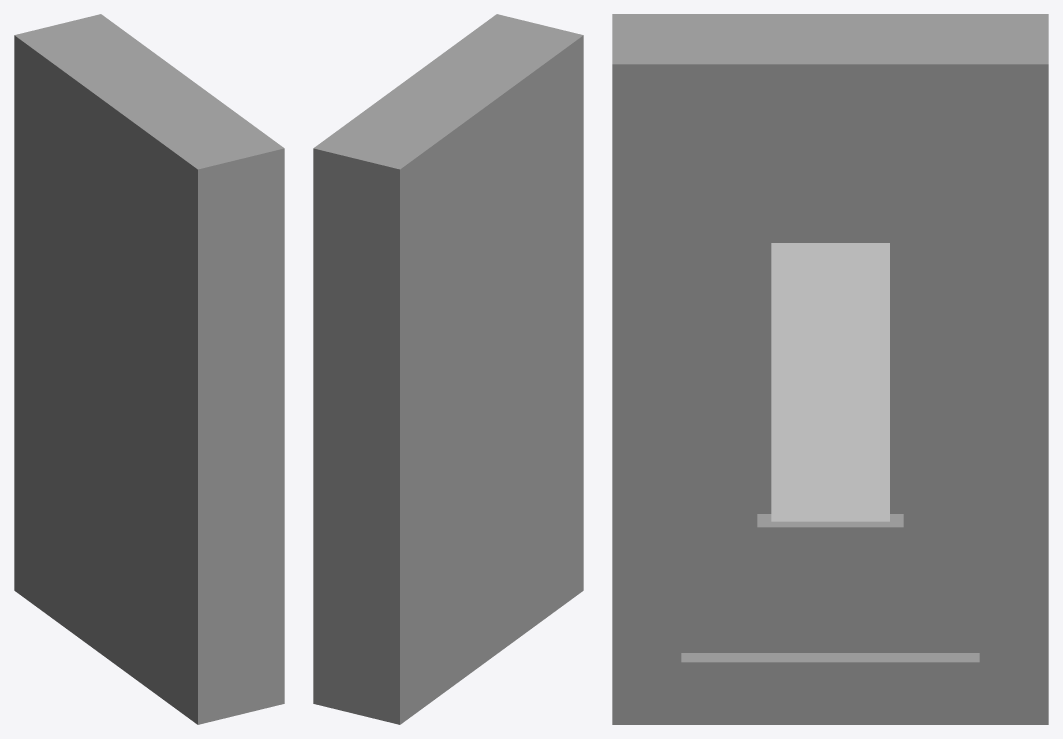
File: lightSwitch.gltf
3 views of the same model, side by side, from view 1: azimuth 30°, elevation 25°; view 2: azimuth 150°, elevation 25°; view 3: azimuth 270°, elevation 25° (orthographic). The views are drawn at different scales.
Parts seen in each view (by area): view 1: lightSwitch; view 2: lightSwitch; view 3: lightSwitch.
Part boxes in pixels (x1,y1,x2,y2): lightSwitch: (14, 14, 284, 724); lightSwitch: (313, 14, 583, 724); lightSwitch: (612, 14, 1048, 724).
Size of the model in its own units: 0.7882 by 4.59 by 2.75.
Materials: 1 (1 with a texture image).
